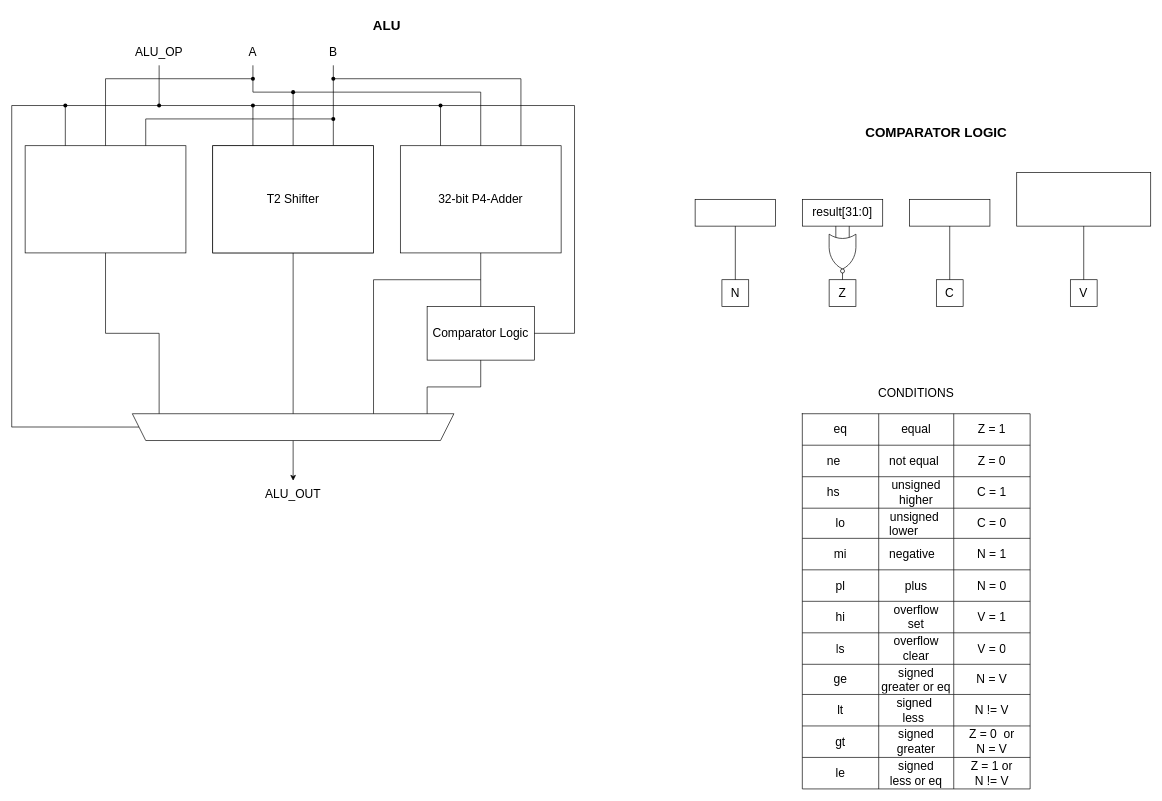
Image size: 1162x801. Some labels were removed from this diagram. Each missing label, with the centre of its shape:
A[31]& B[31] & result[31] or A[31] &B[31]&result[31]: (x=1083, y=199)
c_out: (x=949, y=212)
Logic Operations: (x=105, y=199)
result[31]: (x=735, y=212)
